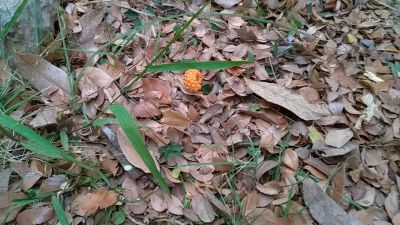eggs: (180, 65, 205, 95)
